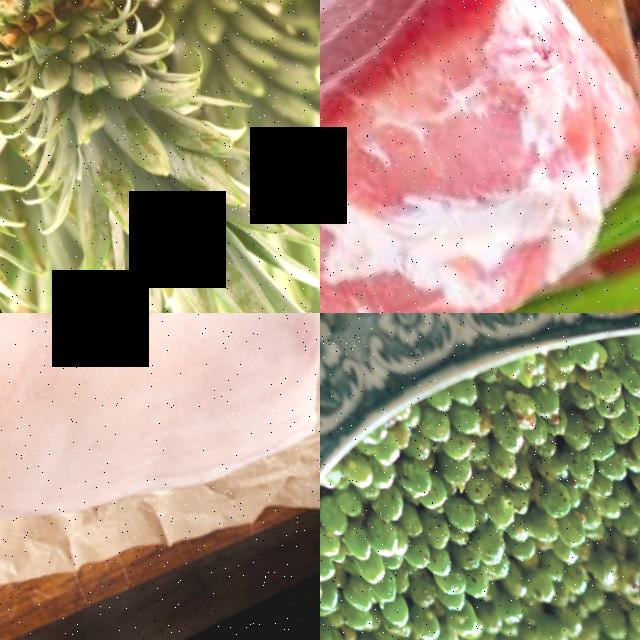peas: (320, 386, 622, 640), (492, 313, 640, 565), (320, 520, 409, 640)
pineapple: (0, 0, 179, 121)
pork belly: (320, 0, 640, 313), (0, 313, 320, 618)
